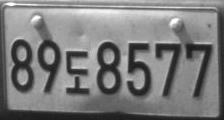5: (126, 41, 151, 97)
7: (185, 42, 213, 98), (154, 42, 182, 96)
8: (95, 40, 122, 95), (9, 38, 35, 93)
9: (36, 39, 62, 93)
도: (64, 50, 90, 94)
